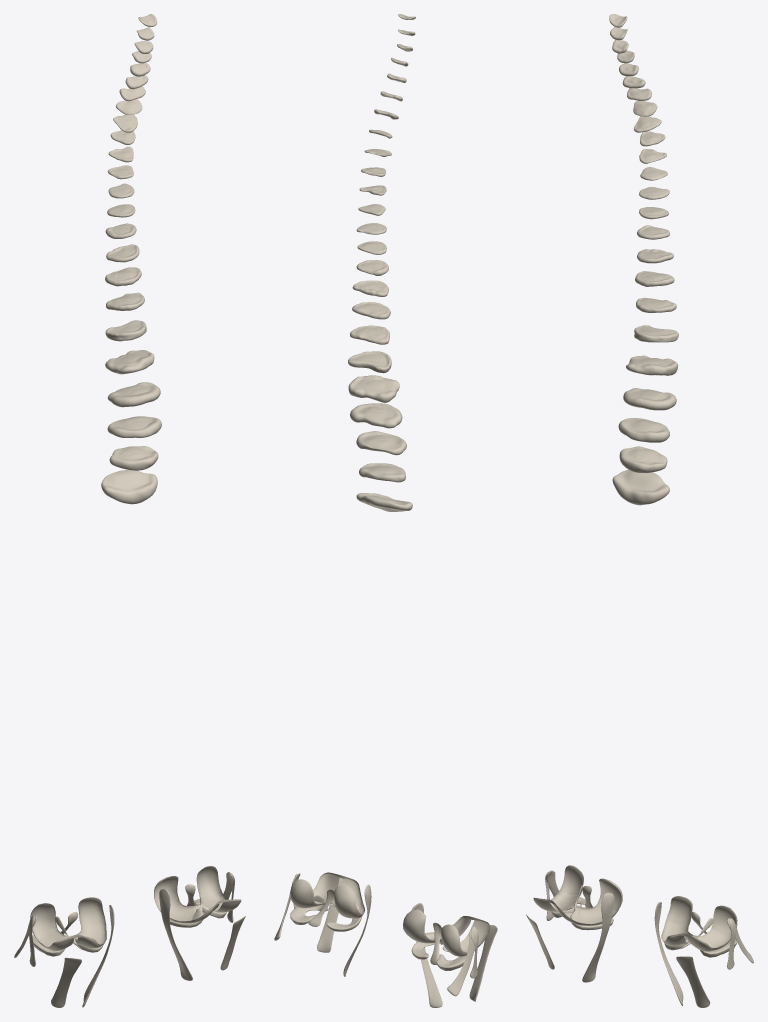
File: joints.glb
3 views of the same model, side by side, from view 1: azimuth 30°, elevation 25°; view 2: azimuth 150°, elevation 25°; view 3: azimuth 330°, elevation 25° (orthographic). The views are drawn at different scales.
Parts seen in each view (by area): view 1: intervertebral disk of sixth lumbar vertebra, intervertebral disk of fifth lumbar vertebra, intervertebral disk of third lumbar vertebra, intervertebral disk of fourth lumbar vertebra, intervertebral disk of second lumbar vertebra, Left tibial collateral ligament, Articular cartilage of distal epiphysis of right femur, Right patellar ligament, Articular cartilage of distal epiphysis of left femur, Medial condyle of right femur, Lateral condyle of right femur, intervertebral disk of first lumbar vertebra (+1 smaller); view 2: Articular disk of knee joint (×2), intervertebral disk of third lumbar vertebra, intervertebral disk of second lumbar vertebra, intervertebral disk of fourth lumbar vertebra, intervertebral disk of fifth lumbar vertebra, intervertebral disk of sixth lumbar vertebra, intervertebral disk of first lumbar vertebra, Right patellar ligament, Right tibial collateral ligament, Medial condyle of left femur, Left patellar ligament, intervertebral disk of twelfth thoracic vertebra (+3 smaller); view 3: intervertebral disk of sixth lumbar vertebra, intervertebral disk of fifth lumbar vertebra, intervertebral disk of fourth lumbar vertebra, intervertebral disk of third lumbar vertebra, Right tibial collateral ligament, intervertebral disk of second lumbar vertebra, Articular cartilage of distal epiphysis of left femur, Left patellar ligament, Articular cartilage of distal epiphysis of right femur, intervertebral disk of first lumbar vertebra, Medial condyle of left femur, Left tibial collateral ligament.
Boxes of the visible parts, left/top/right/bottom form: intervertebral disk of sixth lumbar vertebra: left=101, top=470, right=157, bottom=504; intervertebral disk of fifth lumbar vertebra: left=109, top=446, right=158, bottom=470; intervertebral disk of third lumbar vertebra: left=107, top=382, right=160, bottom=407; intervertebral disk of fourth lumbar vertebra: left=107, top=416, right=161, bottom=437; intervertebral disk of second lumbar vertebra: left=105, top=350, right=154, bottom=374; Left tibial collateral ligament: left=159, top=888, right=192, bottom=980; Articular cartilage of distal epiphysis of right femur: left=30, top=897, right=106, bottom=950; Right patellar ligament: left=51, top=957, right=81, bottom=1007; Articular cartilage of distal epiphysis of left femur: left=154, top=866, right=241, bottom=923; Medial condyle of right femur: left=79, top=897, right=104, bottom=925; Lateral condyle of right femur: left=30, top=903, right=55, bottom=934; intervertebral disk of first lumbar vertebra: left=105, top=320, right=146, bottom=341; Articular disk of knee joint (×2): left=290, top=904, right=466, bottom=970; intervertebral disk of third lumbar vertebra: left=350, top=403, right=402, bottom=428; intervertebral disk of second lumbar vertebra: left=348, top=375, right=399, bottom=402; intervertebral disk of fourth lumbar vertebra: left=356, top=431, right=406, bottom=455; intervertebral disk of fifth lumbar vertebra: left=359, top=463, right=405, bottom=482; intervertebral disk of sixth lumbar vertebra: left=356, top=493, right=412, bottom=511; intervertebral disk of first lumbar vertebra: left=348, top=351, right=391, bottom=373; Right patellar ligament: left=469, top=925, right=497, bottom=1001; Right tibial collateral ligament: left=411, top=903, right=442, bottom=1007; Medial condyle of left femur: left=334, top=886, right=358, bottom=917; Left patellar ligament: left=317, top=877, right=342, bottom=952; intervertebral disk of twelfth thoracic vertebra: left=350, top=325, right=389, bottom=344; intervertebral disk of sixth lumbar vertebra: left=612, top=469, right=669, bottom=505; intervertebral disk of fifth lumbar vertebra: left=619, top=446, right=667, bottom=472; intervertebral disk of fourth lumbar vertebra: left=618, top=418, right=669, bottom=442; intervertebral disk of third lumbar vertebra: left=623, top=388, right=676, bottom=410; Right tibial collateral ligament: left=582, top=892, right=614, bottom=982; intervertebral disk of second lumbar vertebra: left=626, top=355, right=678, bottom=375; Articular cartilage of distal epiphysis of left femur: left=661, top=896, right=737, bottom=951; Left patellar ligament: left=676, top=956, right=710, bottom=1007; Articular cartilage of distal epiphysis of right femur: left=533, top=865, right=621, bottom=925; intervertebral disk of first lumbar vertebra: left=634, top=325, right=678, bottom=342; Medial condyle of left femur: left=668, top=896, right=692, bottom=924; Left tibial collateral ligament: left=654, top=902, right=683, bottom=1005.
Size of the model in its own units: 0.2367 by 1.13 by 0.1205.
